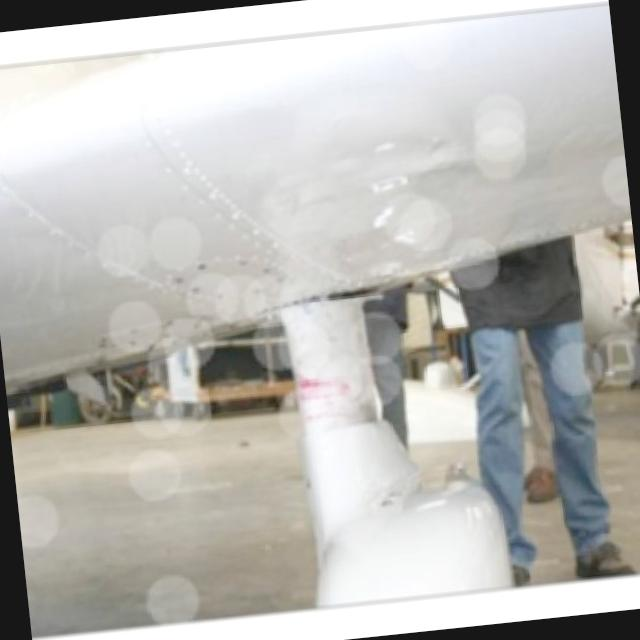dent: (363, 168, 428, 202)
